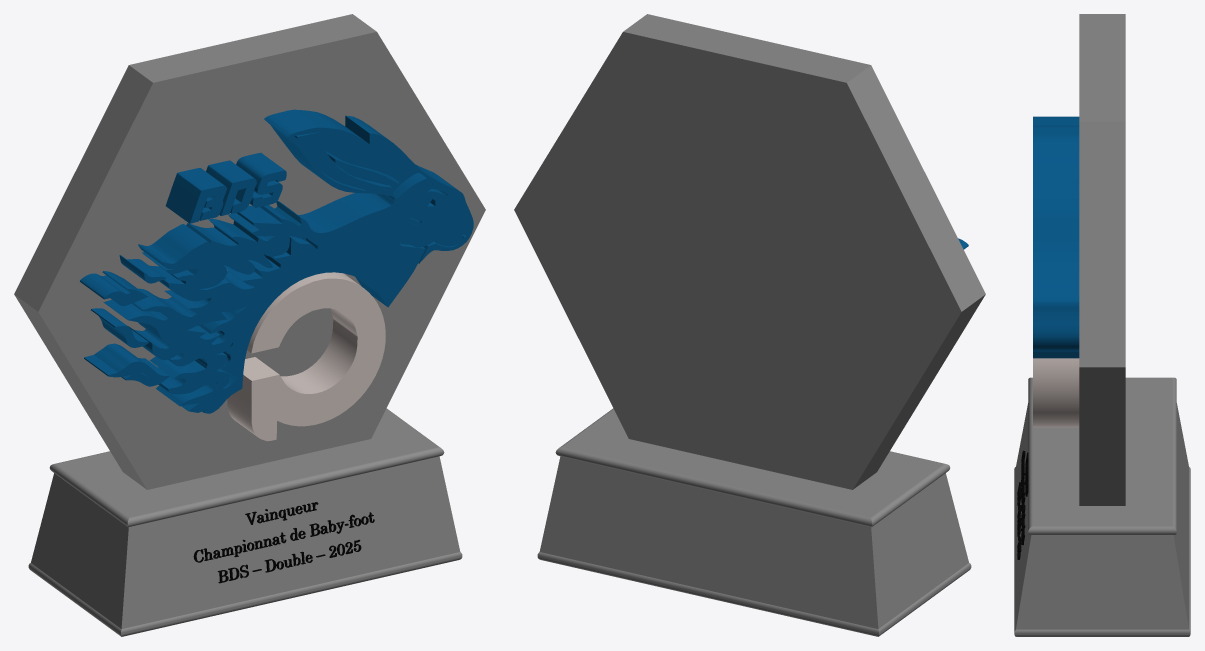
The model's file is Trophee_double.glb.
3 views of the same model, side by side, from view 1: azimuth 30°, elevation 25°; view 2: azimuth 150°, elevation 25°; view 3: azimuth 270°, elevation 25° (orthographic). The views are drawn at different scales.
Visible parts, largest first — view 1: Pièce 3, Pièce, Pièce 2, Pièce 4; view 2: Pièce 3; view 3: Pièce 3, Pièce, Pièce 2, Pièce 4.
Boxes of the visible parts, bbox=[...] form: Pièce 3: bbox=[14, 14, 485, 636]; Pièce: bbox=[80, 109, 473, 413]; Pièce 2: bbox=[227, 272, 385, 441]; Pièce 4: bbox=[193, 502, 374, 583]; Pièce 3: bbox=[514, 14, 985, 636]; Pièce 3: bbox=[1014, 14, 1190, 636]; Pièce: bbox=[1033, 116, 1079, 358]; Pièce 2: bbox=[1033, 358, 1079, 427]; Pièce 4: bbox=[1017, 450, 1028, 559].
Bounding box in the file's own units: 2.12 × 2.36 × 0.7584.
Materials: 4 (1 with a texture image).
